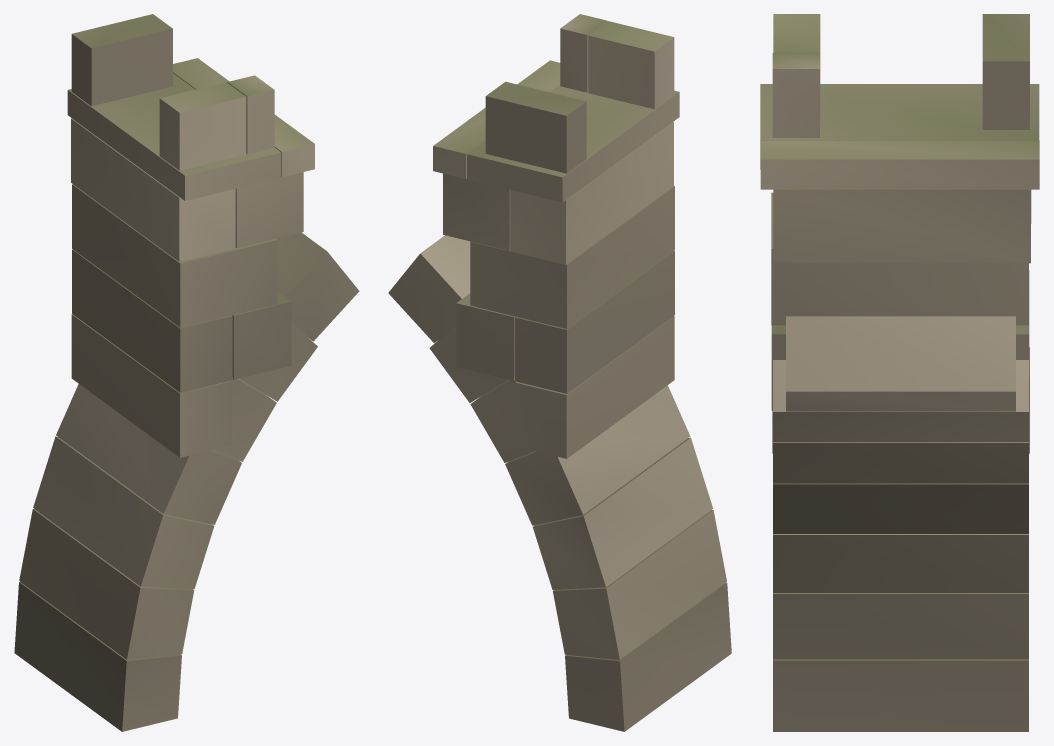
The model's file is viaduct_top_arch_broken_mid.glb.
3 renders of one model, left to right at view 1: azimuth 30°, elevation 25°; view 2: azimuth 150°, elevation 25°; view 3: azimuth 270°, elevation 25°, orthographic. The views are drawn at different scales.
Visible parts, largest first — view 1: viaduct_top_arch_broken_mid; view 2: viaduct_top_arch_broken_mid; view 3: viaduct_top_arch_broken_mid.
Boxes of the visible parts, box(x1,y1,x2,y2) form: viaduct_top_arch_broken_mid: box(14, 14, 359, 731); viaduct_top_arch_broken_mid: box(388, 14, 731, 731); viaduct_top_arch_broken_mid: box(760, 14, 1039, 731).
Size of the model in its own units: 7.76 by 18.47 by 6.51.
